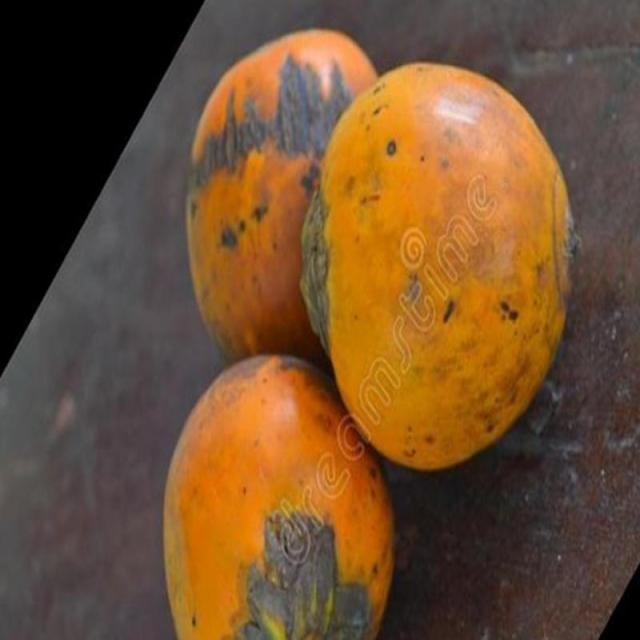good: (302, 63, 573, 474), (161, 355, 396, 639), (184, 29, 378, 369)
